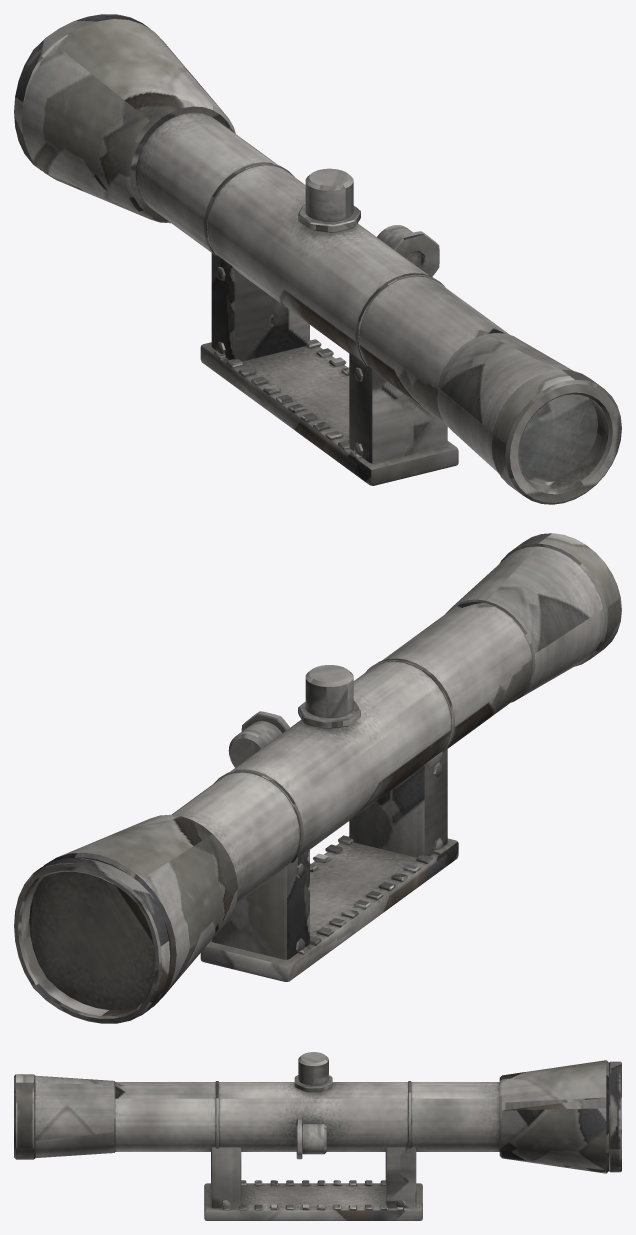
The model's file is scope_6x.glb.
The picture shows the model from 3 angles, top to bottom: view 1: azimuth 30°, elevation 25°; view 2: azimuth 150°, elevation 25°; view 3: azimuth 270°, elevation 25°; orthographic projection. The views are drawn at different scales.
Parts seen in each view (by area): view 1: tube, bell, eyepiece, rail, eye_rubber, ring_rear, ring_front, turret_top, bell_lip, turret_side_cap, turret_top_cap; view 2: tube, bell, eyepiece, rail, bell_lip, ring_rear, ring_front, eye_rubber, turret_top, turret_side, turret_top_cap; view 3: tube, bell, eyepiece, rail, ring_front, eye_rubber, ring_rear, bell_lip, turret_top, turret_side, turret_top_cap, turret_side_cap (+2 smaller).
Boxes of the visible parts, bbox=[...] form: tube: bbox=[135, 112, 509, 423]; bell: bbox=[21, 19, 235, 223]; eyepiece: bbox=[437, 333, 597, 482]; rail: bbox=[200, 340, 458, 485]; eye_rubber: bbox=[491, 369, 621, 504]; ring_rear: bbox=[349, 352, 447, 463]; ring_front: bbox=[211, 252, 309, 361]; turret_top: bbox=[305, 168, 353, 221]; bell_lip: bbox=[14, 14, 150, 170]; turret_side_cap: bbox=[391, 231, 439, 276]; turret_top_cap: bbox=[298, 204, 360, 232]; tube: bbox=[171, 601, 533, 903]; bell: bbox=[29, 814, 237, 1009]; eyepiece: bbox=[445, 546, 604, 702]; rail: bbox=[200, 836, 458, 981]; bell_lip: bbox=[14, 858, 170, 1023]; ring_rear: bbox=[349, 748, 447, 857]; ring_front: bbox=[211, 848, 309, 959]; eye_rubber: bbox=[499, 533, 621, 666]; turret_top: bbox=[305, 665, 353, 717]; turret_side: bbox=[228, 721, 282, 767]; turret_top_cap: bbox=[298, 700, 360, 728]; tube: bbox=[115, 1082, 499, 1151]; bell: bbox=[499, 1060, 608, 1173]; eyepiece: bbox=[35, 1075, 115, 1158]; rail: bbox=[204, 1183, 422, 1220]; ring_front: bbox=[385, 1147, 416, 1208]; eye_rubber: bbox=[14, 1074, 35, 1159]; ring_rear: bbox=[211, 1147, 241, 1208]; bell_lip: bbox=[609, 1061, 621, 1172]; turret_top: bbox=[298, 1052, 328, 1085]; turret_side: bbox=[302, 1124, 326, 1154]; turret_top_cap: bbox=[294, 1075, 332, 1092]; turret_side_cap: bbox=[296, 1119, 302, 1159].
Bounding box in the file's own units: 0.0587 × 0.076 × 0.278.
Materials: 2 (1 with a texture image).
